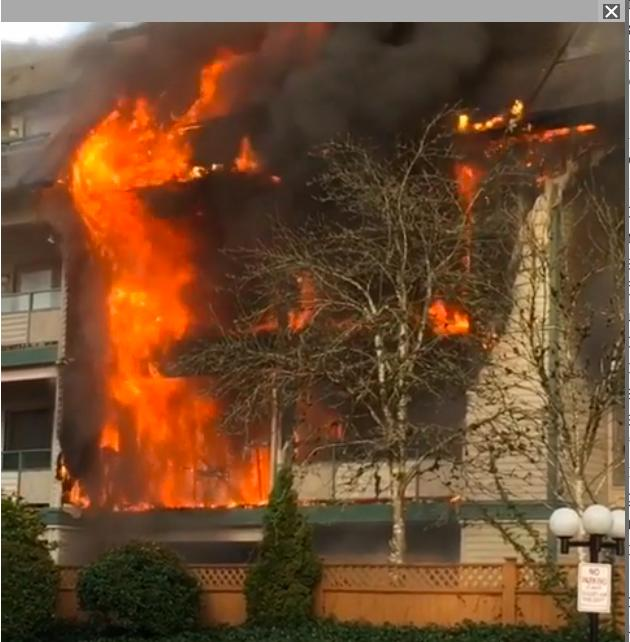Fire: (56, 56, 570, 517)
